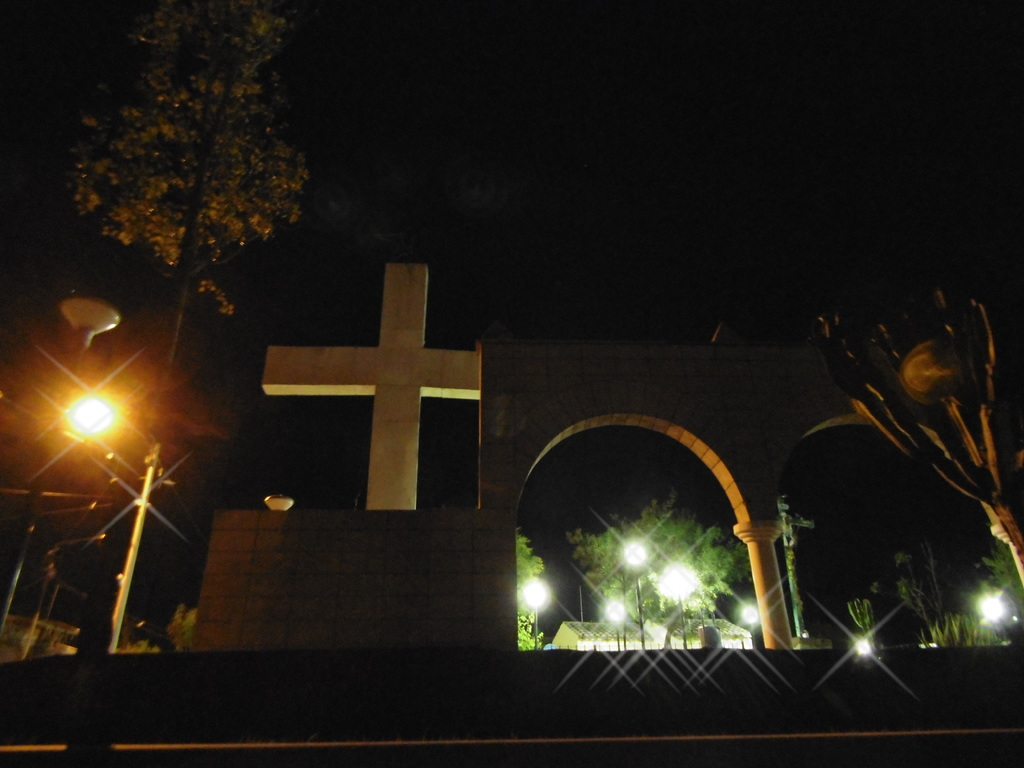Tree: (64, 0, 310, 749), (567, 485, 764, 657), (863, 523, 1024, 641), (434, 502, 547, 653)
